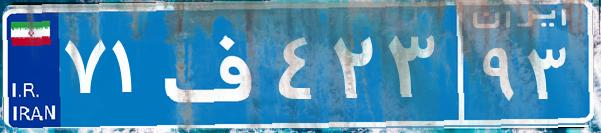1: (110, 28, 158, 105)
2: (330, 28, 385, 110)
3: (385, 28, 445, 110), (525, 38, 570, 115)
4: (273, 28, 330, 110)
7: (57, 26, 110, 107)
9: (475, 38, 525, 113)
ف: (158, 15, 273, 115)
